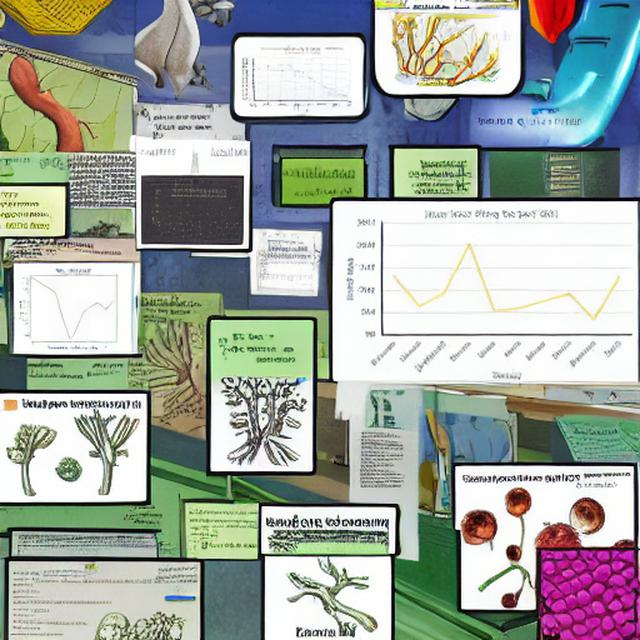Graph: (345, 207, 636, 382), (15, 265, 129, 351), (238, 44, 356, 113), (152, 194, 243, 245)
